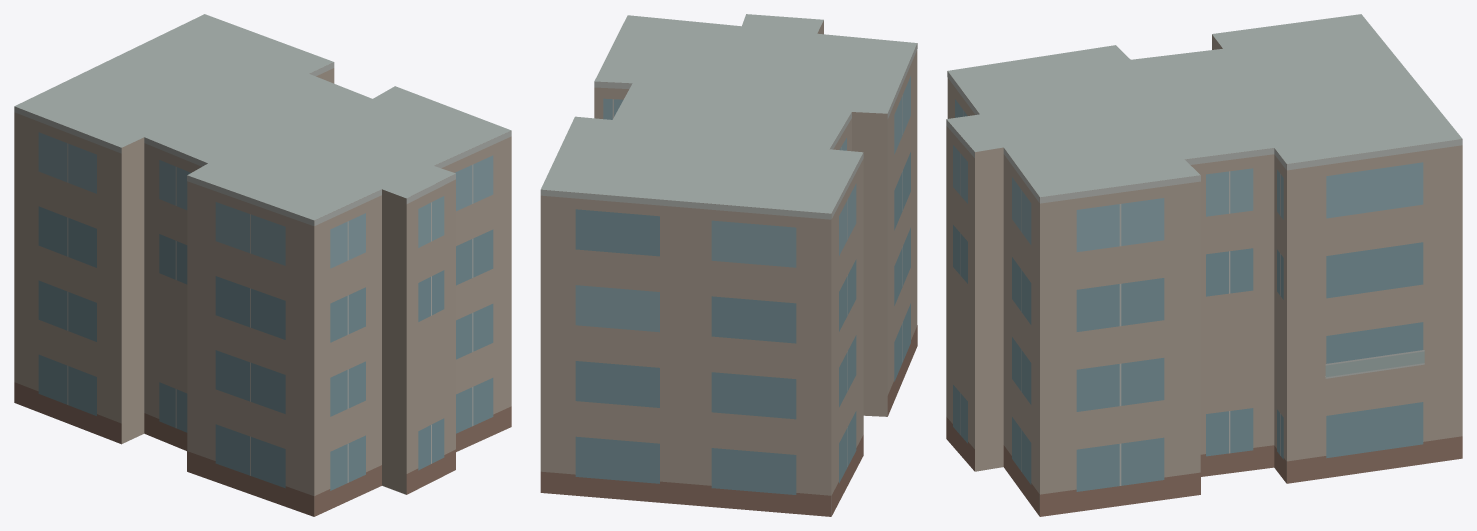
File: survey-upis-32813099.glb
3 renders of one model, left to right at view 1: azimuth 30°, elevation 25°; view 2: azimuth 150°, elevation 25°; view 3: azimuth 270°, elevation 25°, orthographic. The views are drawn at different scales.
Visible parts, largest first — view 1: survey-upis-32813099.tmp; view 2: survey-upis-32813099.tmp; view 3: survey-upis-32813099.tmp.
Boxes of the visible parts, box(x1,y1,x2,y2) form: survey-upis-32813099.tmp: box(14, 14, 511, 516); survey-upis-32813099.tmp: box(540, 14, 917, 516); survey-upis-32813099.tmp: box(946, 14, 1462, 516).
Bounding box in the file's own units: 15.13 × 12.3 × 18.02.
